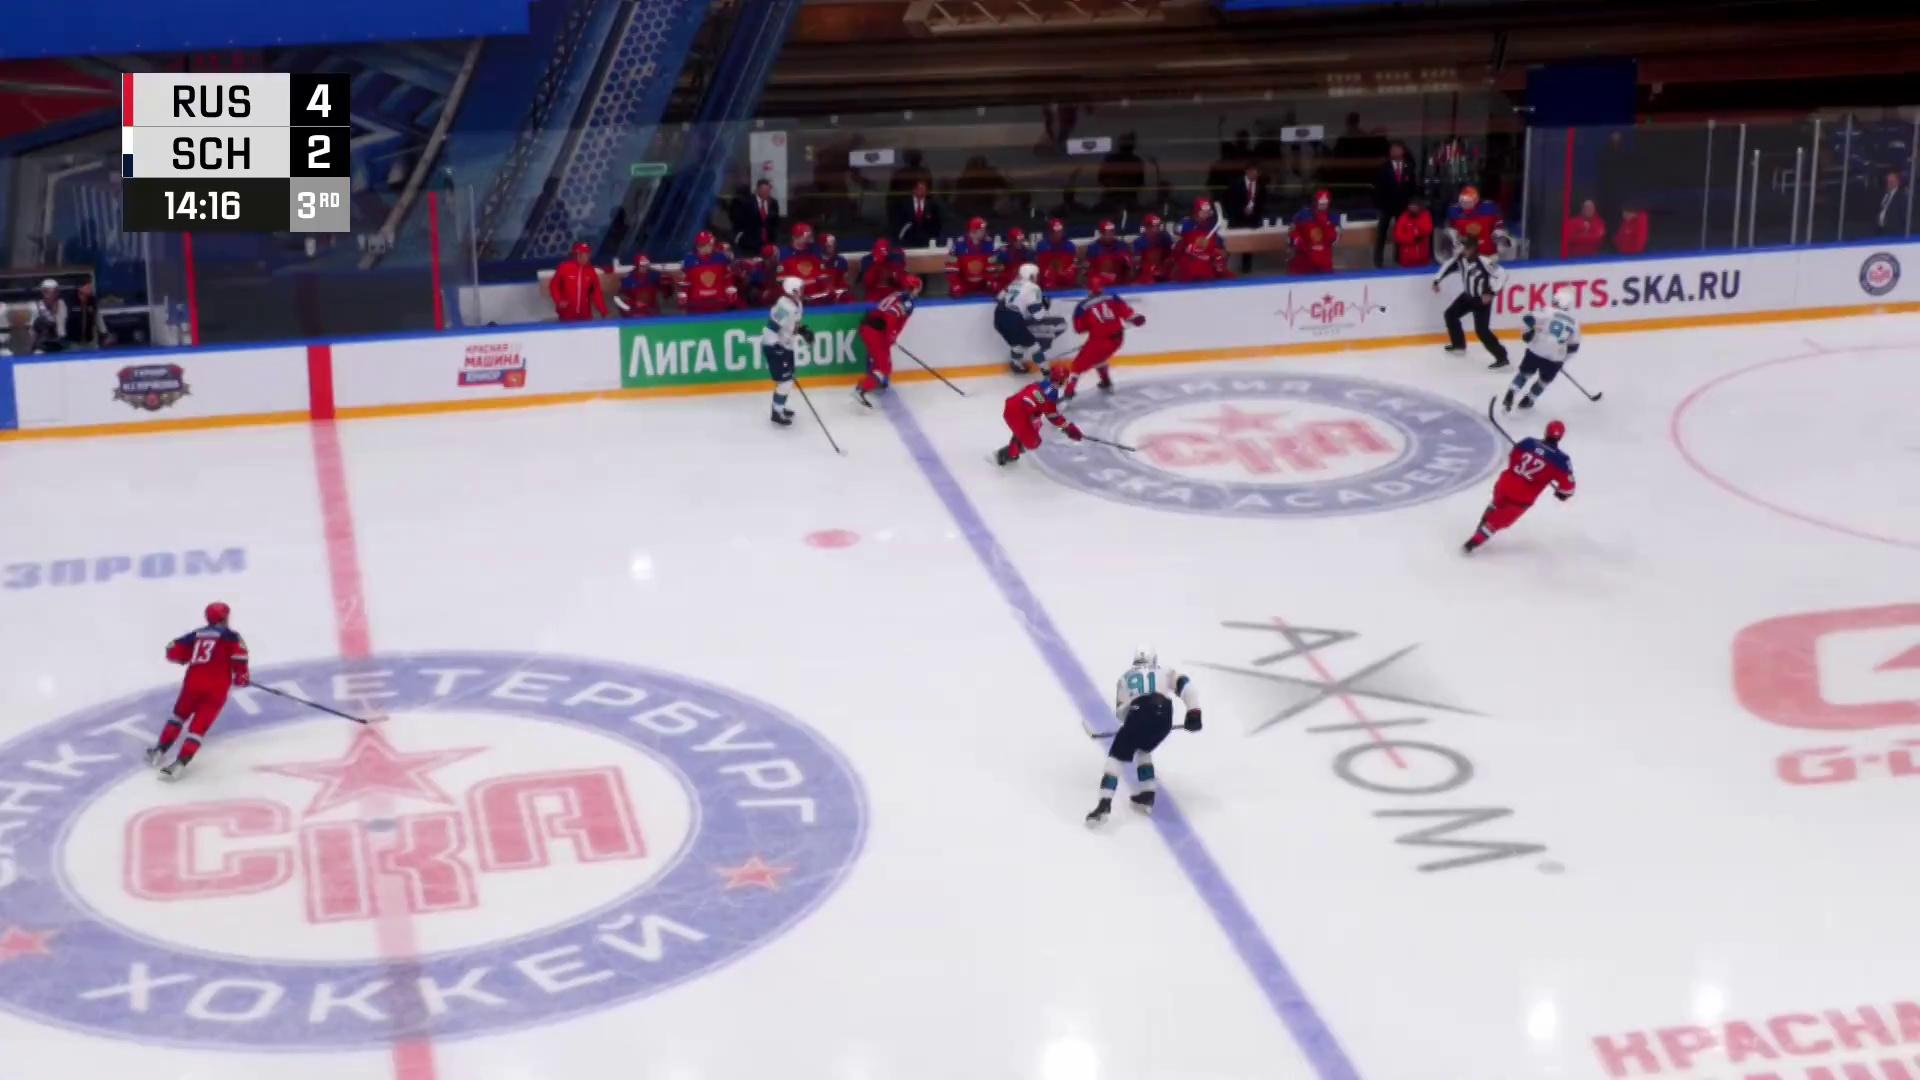ball: (1378, 306, 1389, 314)
